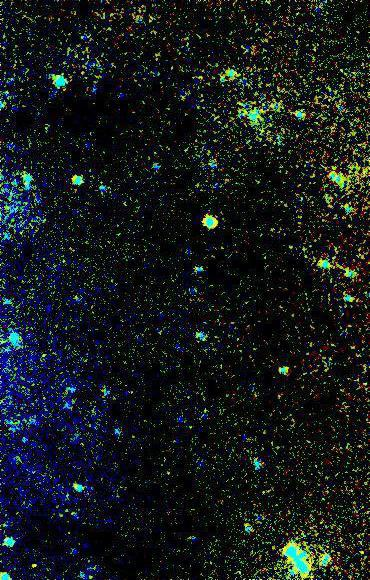star: (20, 551, 50, 580)
